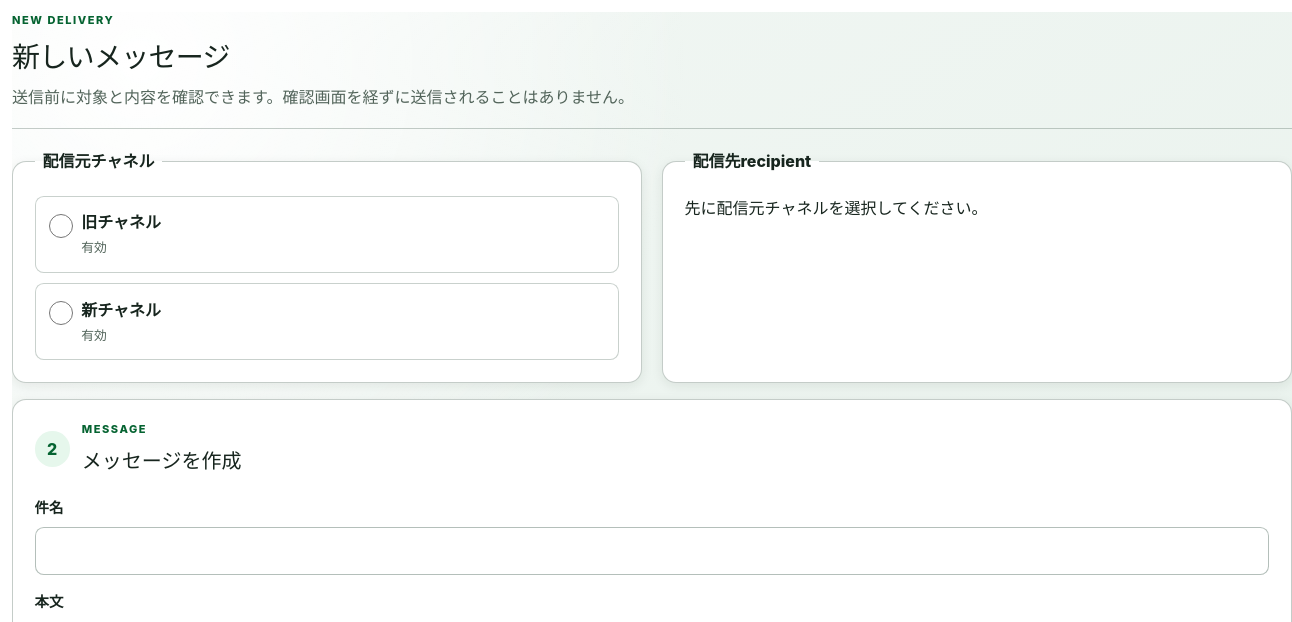
Test case: linked delivery target selection › ignores stale recipient responses after changing the channel
Click the radio button labelled "旧チャネル 有効".
click(61, 226)  # box [49, 214, 73, 238]
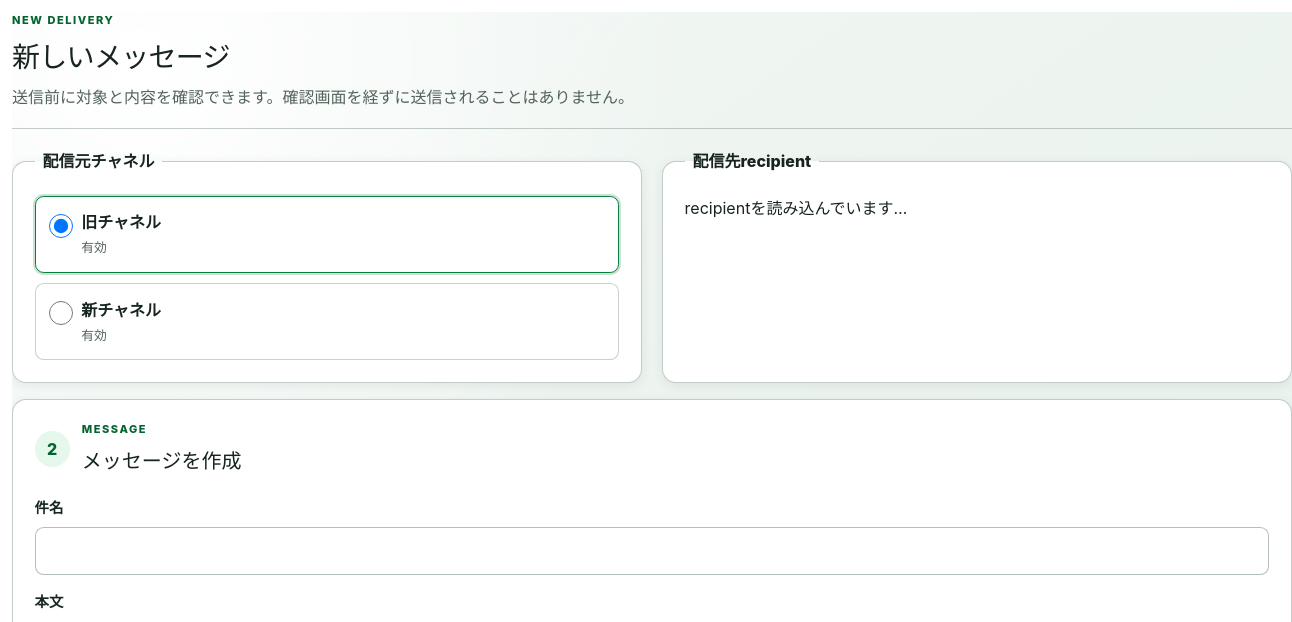
Click the radio button labelled "新チャネル 有効".
click(61, 313)  # box [49, 301, 73, 325]
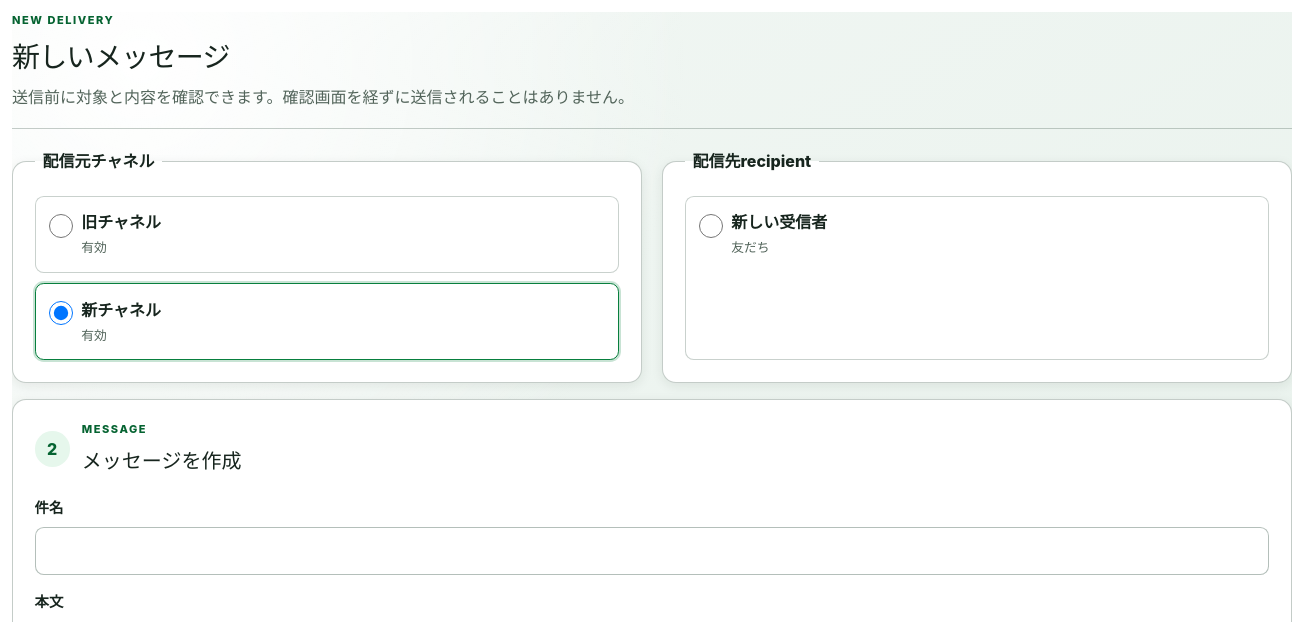
Check: the text "新しい受信者" is shown, box [731, 212, 827, 232]
